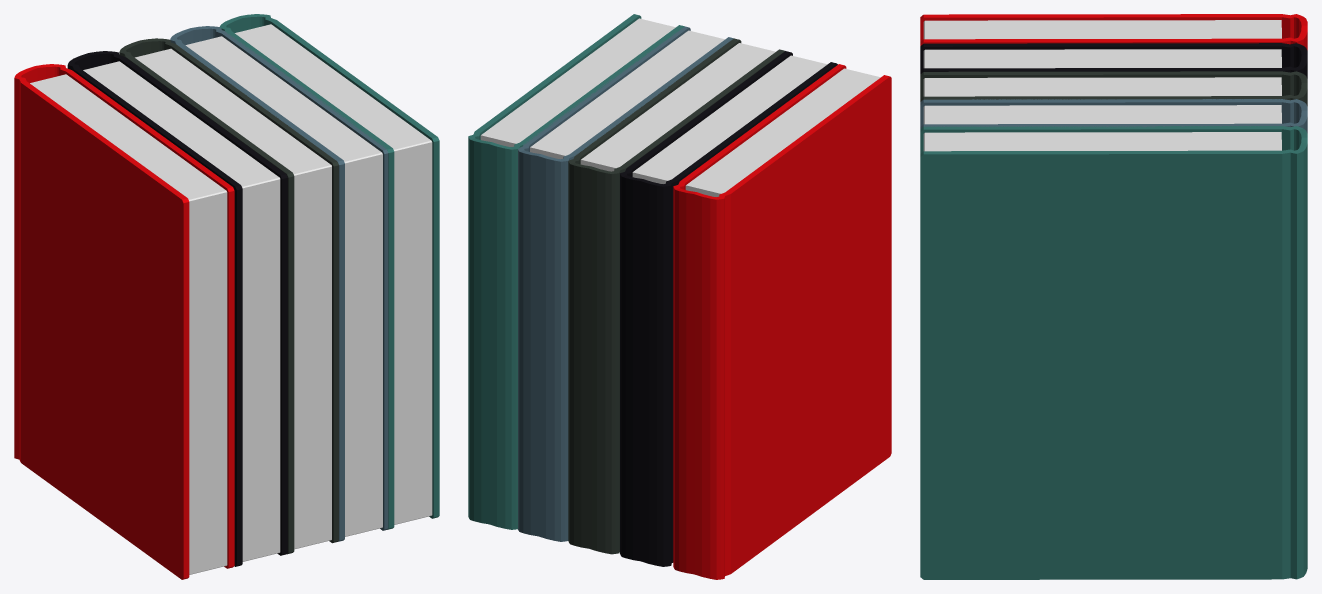
The model's file is LivrosA.fbx.
The picture shows the model from 3 angles, left to right: view 1: azimuth 30°, elevation 25°; view 2: azimuth 150°, elevation 25°; view 3: azimuth 270°, elevation 25°; orthographic projection. The views are drawn at different scales.
Parts seen in each view (by area): view 1: LivroPuzzle.005; view 2: LivroPuzzle.005; view 3: LivroPuzzle.005.
Part boxes in pixels (<box>): LivroPuzzle.005: <box>14,14,439,579</box>; LivroPuzzle.005: <box>468,14,891,579</box>; LivroPuzzle.005: <box>920,14,1307,579</box>.
Bounding box in the file's own units: 20.46 × 29.06 × 23.86.
